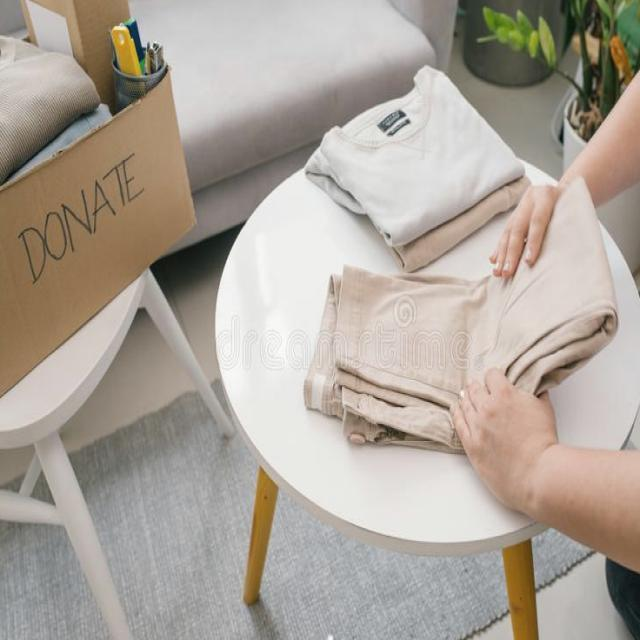clothes: (310, 64, 511, 279), (447, 168, 620, 388), (307, 258, 469, 423), (0, 28, 86, 152)
